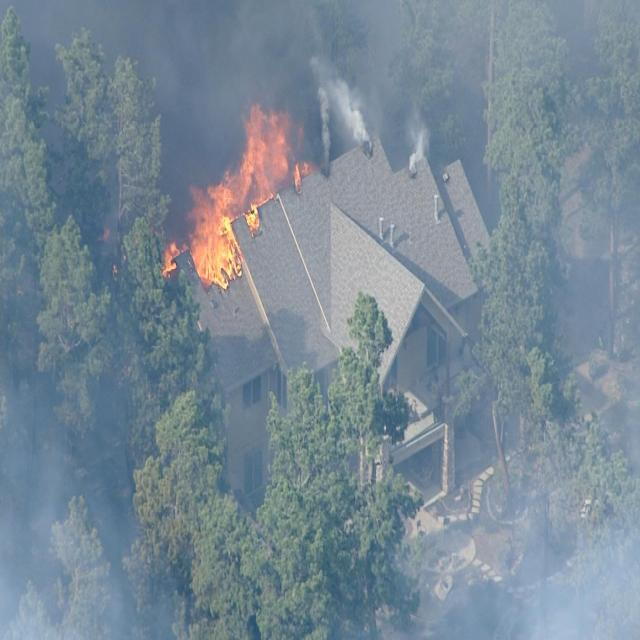Fire: (165, 107, 313, 292)
